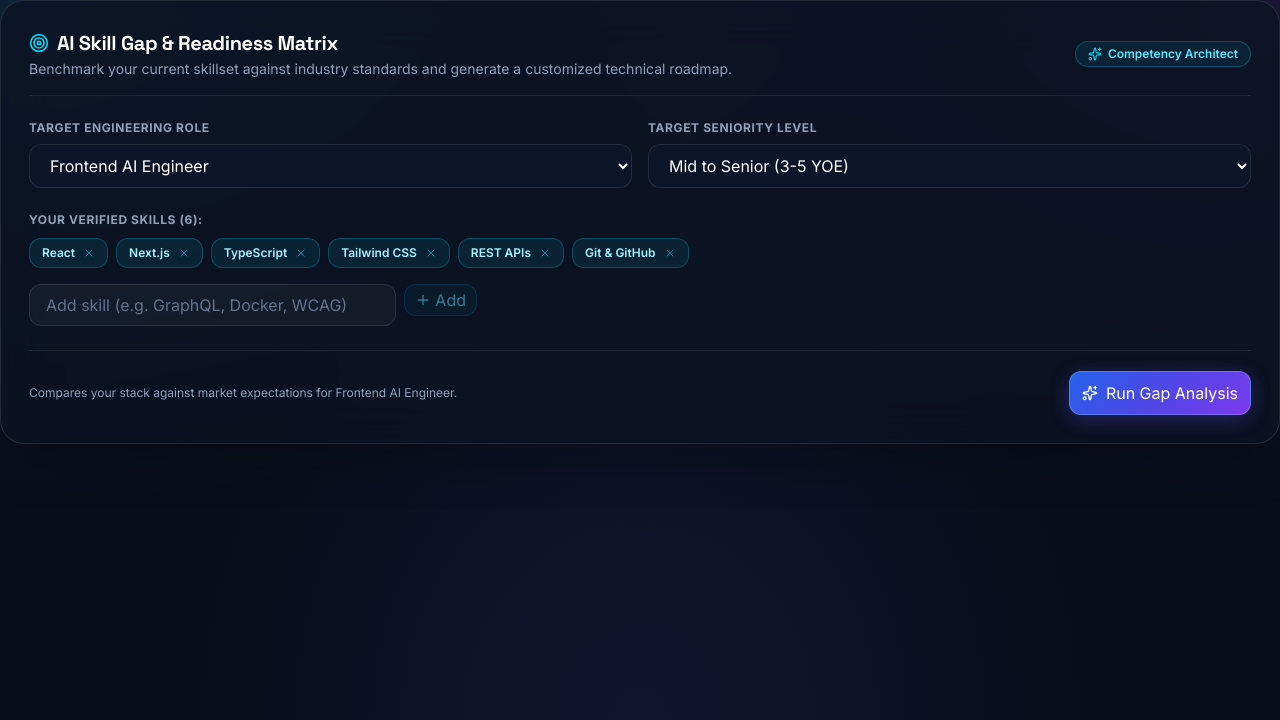
Scenario: SkillGapAnalyzer Component › handles API error gracefully
Step 1. Click the button "Run Gap Analysis" → {"x": 1160, "y": 393}, box [1069, 371, 1251, 415]
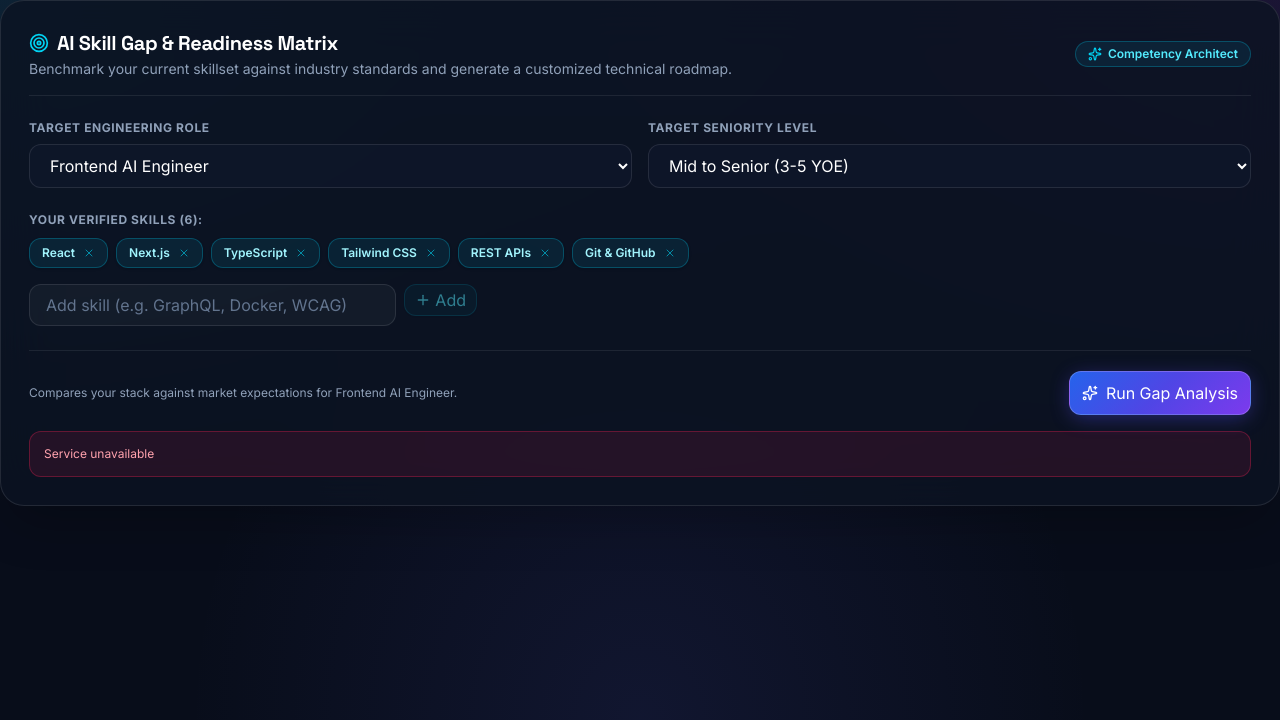
Now the message reads "Service unavailable", box [44, 446, 154, 461]
